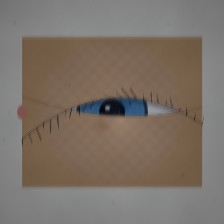hemorrhage_spot: (59, 86, 141, 152)
